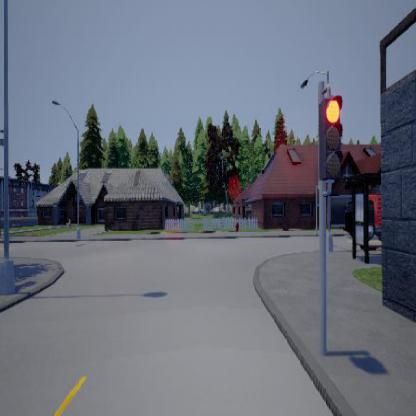traffic_light_red: (318, 83, 342, 196)
vehicle: (340, 194, 381, 241)
